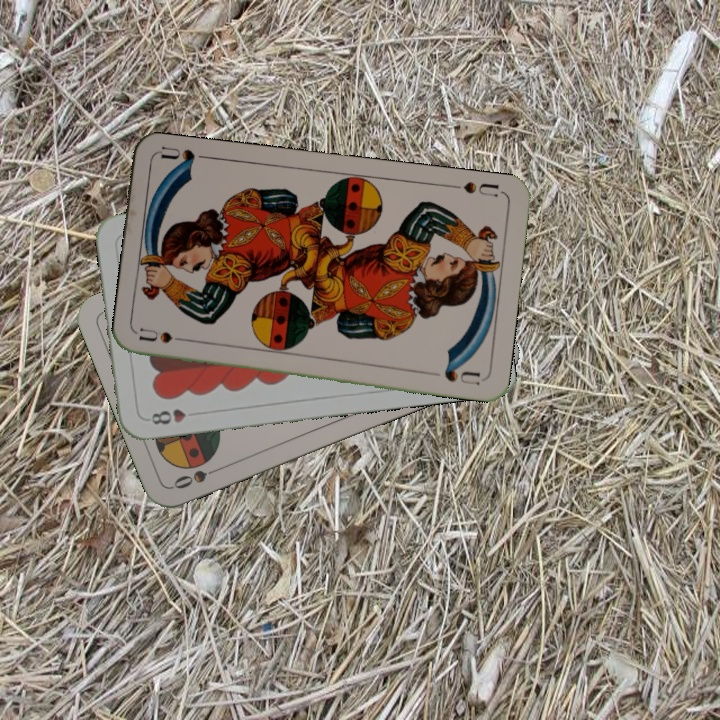H8: (147, 405, 189, 427)
SO: (169, 462, 226, 492)
SU: (136, 325, 195, 346), (459, 178, 505, 200)
